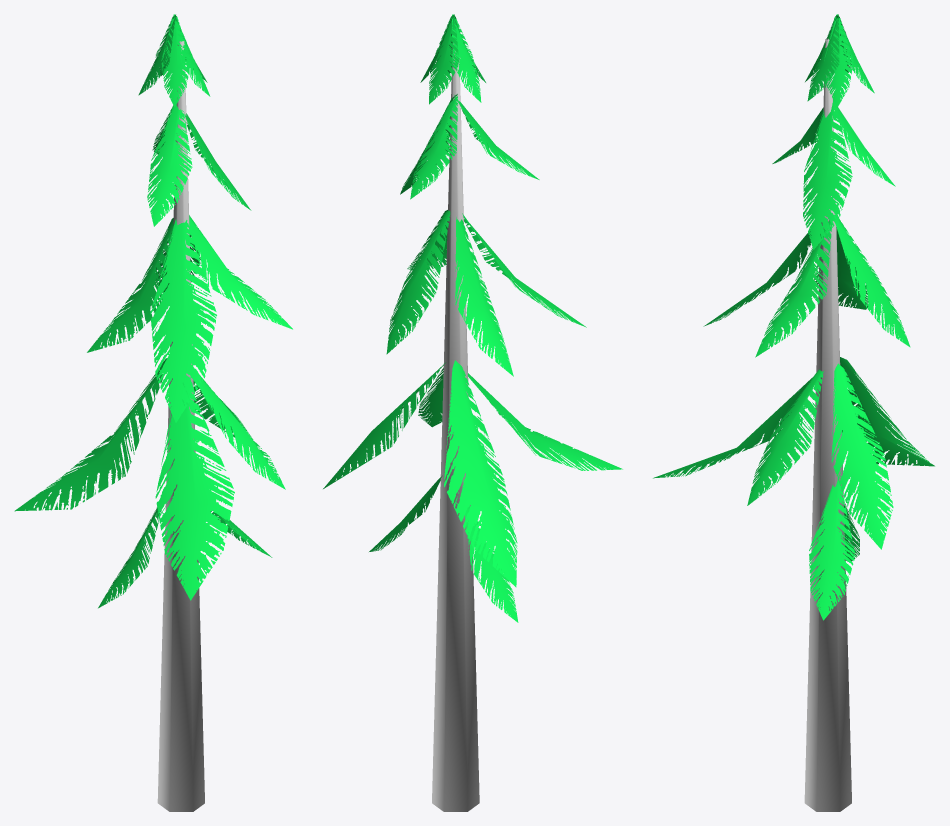
File: StylizedPineTree.fbx
3 renders of one model, left to right at view 1: azimuth 30°, elevation 25°; view 2: azimuth 150°, elevation 25°; view 3: azimuth 270°, elevation 25°, orthographic.
Visible parts, largest first — view 1: Plane.058, Cylinder.007; view 2: Plane.058, Cylinder.007; view 3: Plane.058, Cylinder.007.
Boxes of the visible parts, x1,y1,x2,y2 form: Plane.058: (14, 14, 292, 608); Cylinder.007: (157, 41, 204, 811); Plane.058: (323, 14, 622, 622); Cylinder.007: (432, 43, 479, 811); Plane.058: (653, 14, 934, 620); Cylinder.007: (804, 38, 851, 811).
Bounding box in the file's own units: 2.05 × 7.02 × 2.29.
